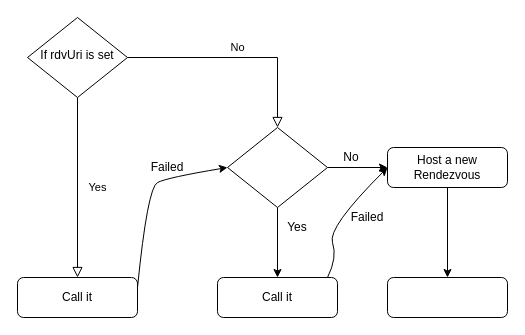
The diagram is 525 pixels wide and 335 high, and some of its shapes have lost their labels. The shapes that lost their labels are listed below. From the top down, each one's box as (x1, y1, x2, y2) in pixels, then its label:
(226, 126, 328, 208): Is there any current call?
(386, 276, 508, 318): Ask device to be the host for next calls
